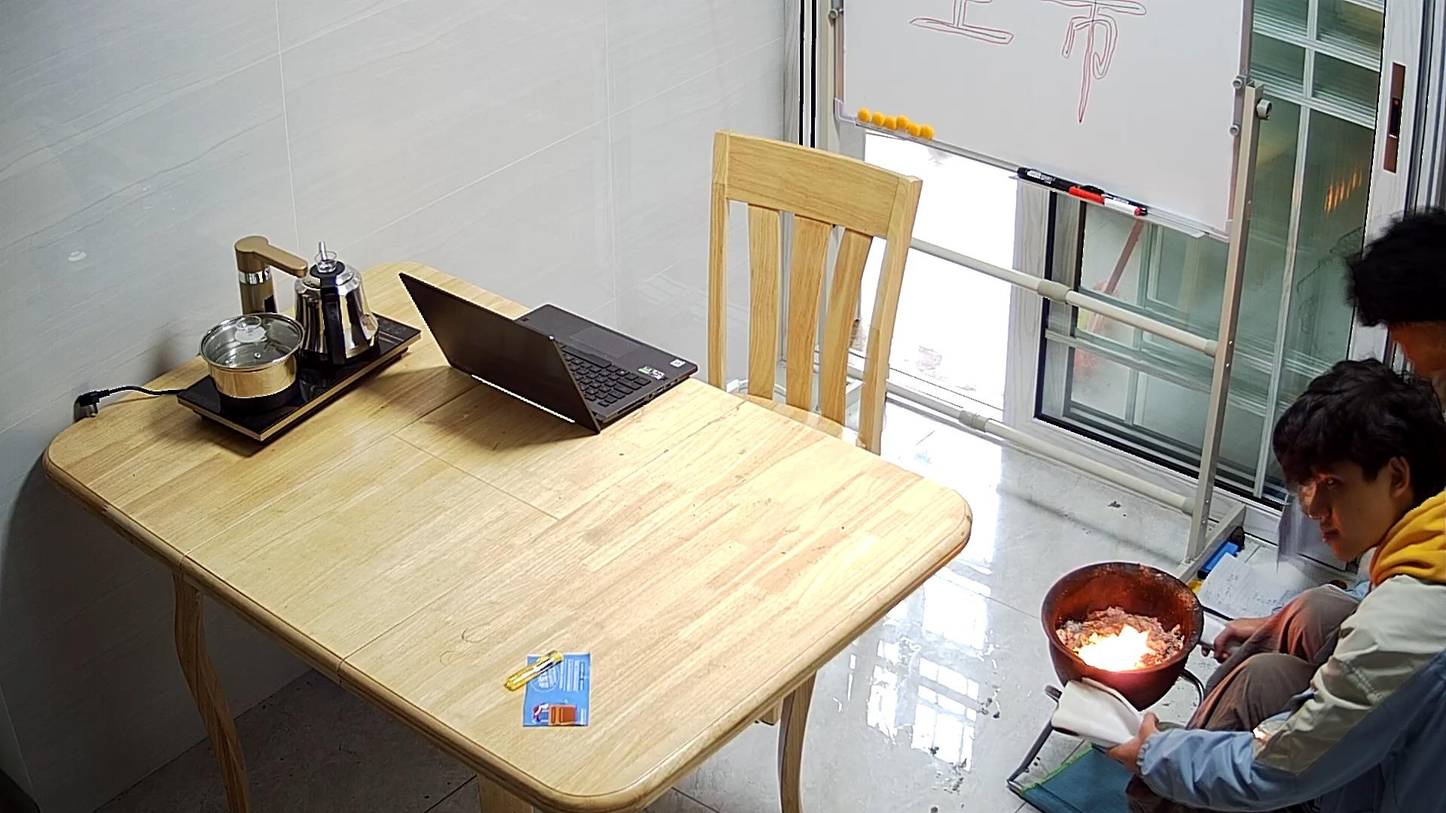fire: (1076, 625, 1155, 671)
